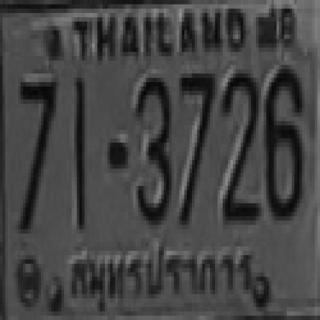N01: (73, 73, 86, 229)
N02: (219, 69, 257, 220)
N03: (134, 74, 170, 220)
N06: (264, 65, 302, 216)
N07: (18, 78, 54, 229), (177, 71, 212, 223)
P57: (65, 236, 257, 310)
